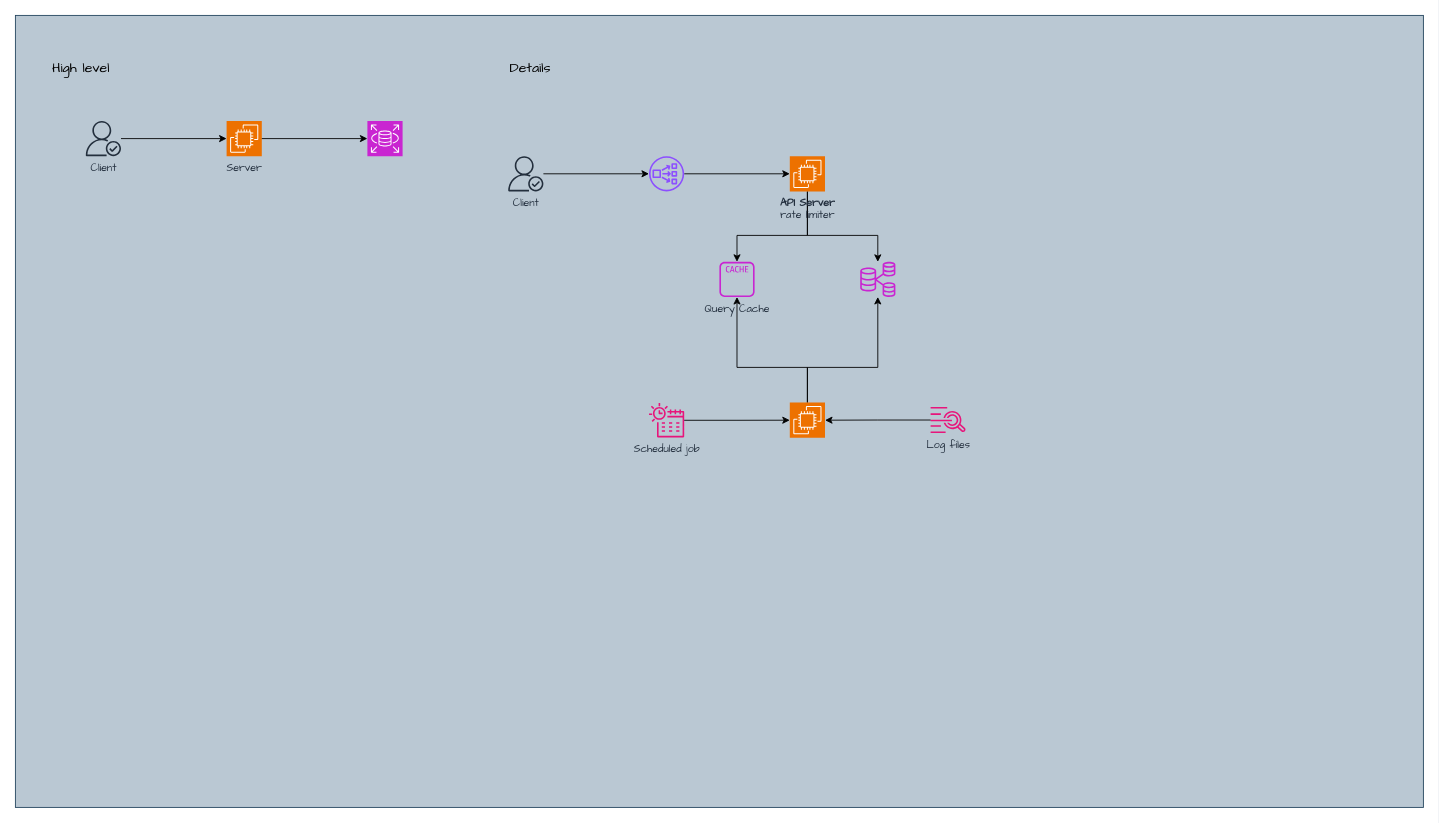
This 1439x823 diagram has some shape labels left out. The centre of each missing label's shape, as x and y in pixels:
"Aggregate Server" belongs at (x=807, y=420).
"Database" belongs at (x=385, y=138).
"Load Balancer" belongs at (x=666, y=173).
"Query Database Cluster" belongs at (x=877, y=279).
